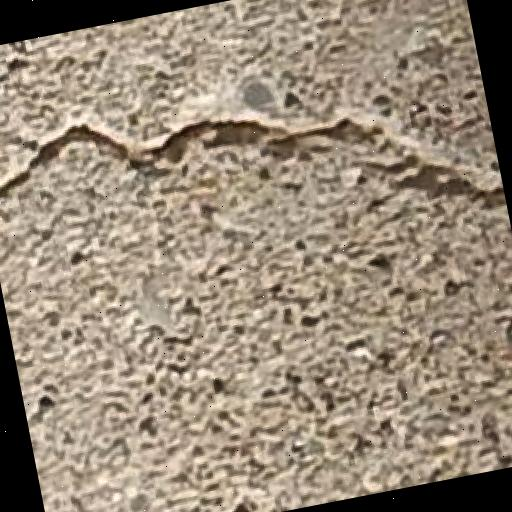spalling: (0, 92, 493, 237)
